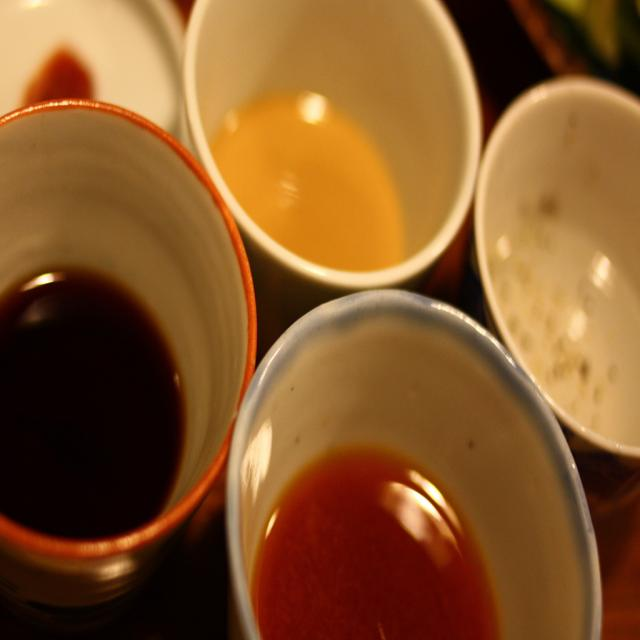Tea: (0, 264, 186, 544), (254, 448, 501, 639)
